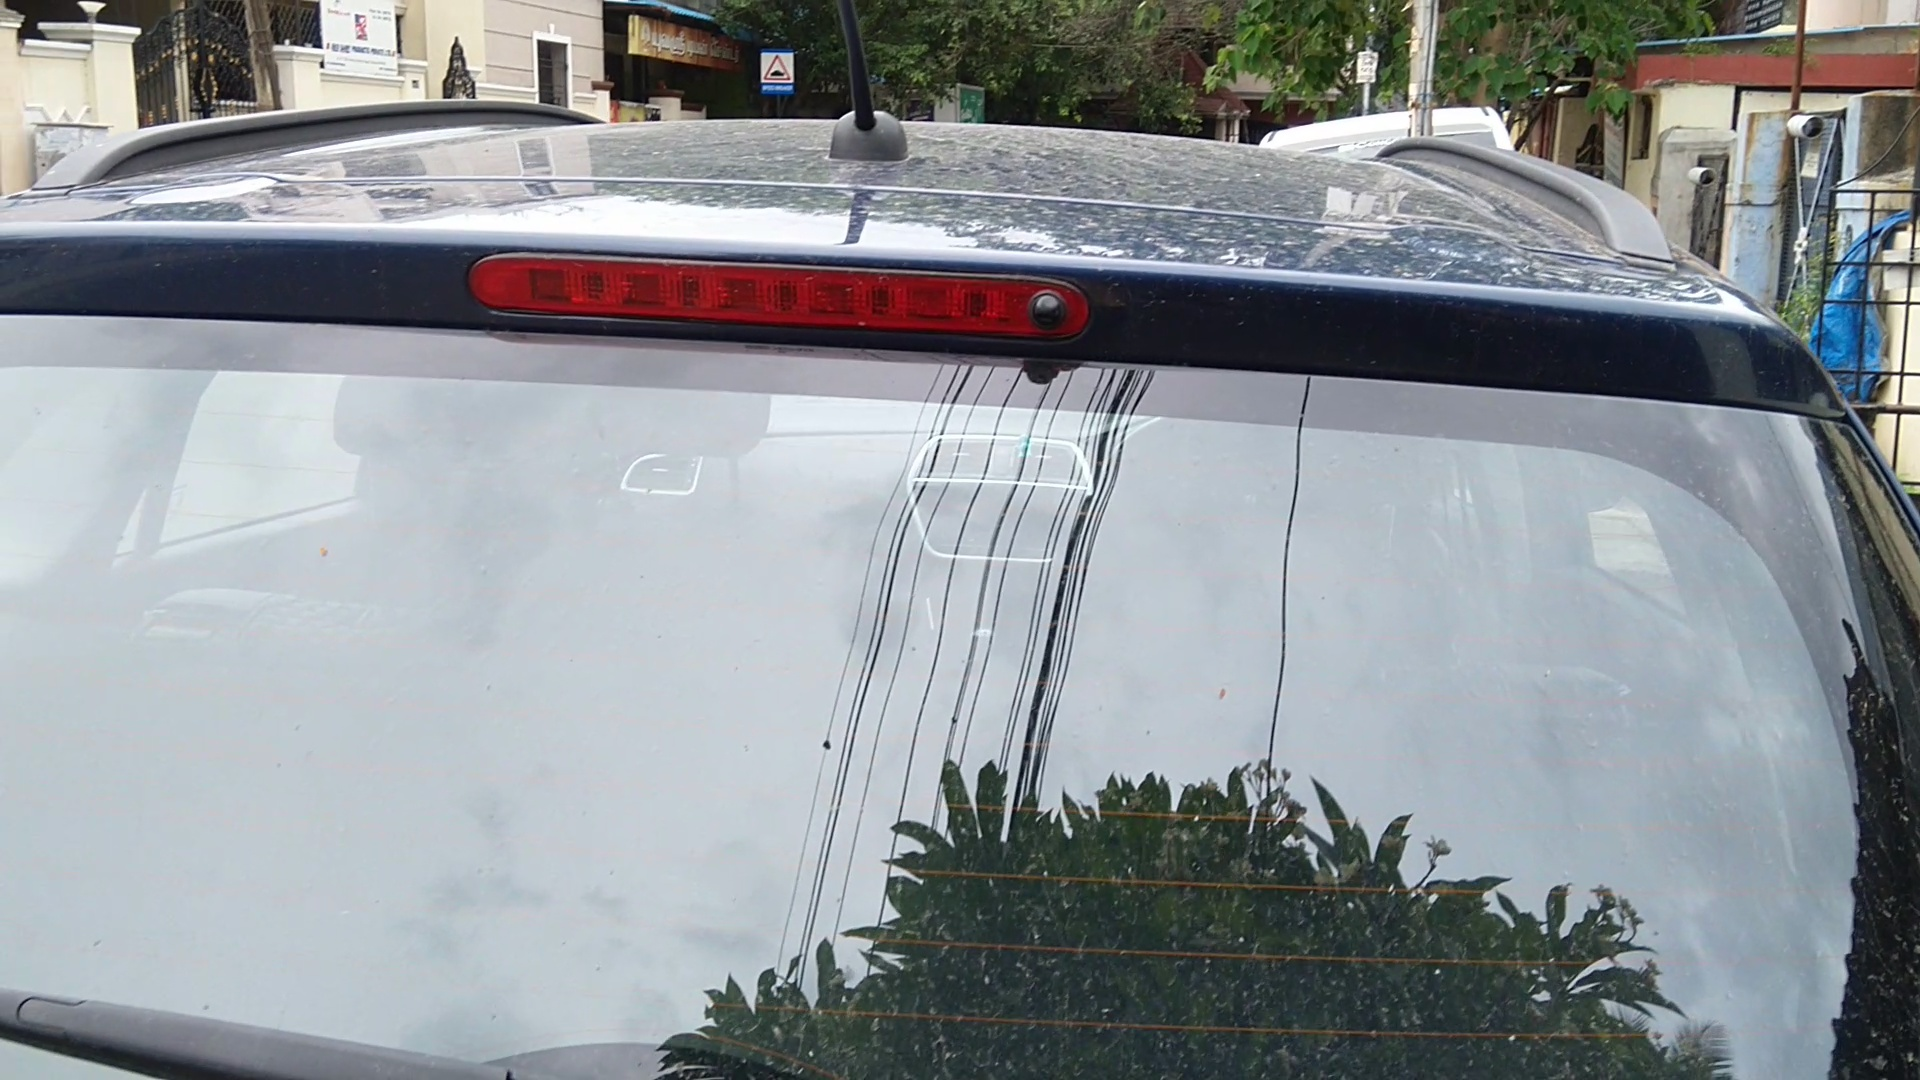rear_camera: (1011, 276, 1088, 352)
